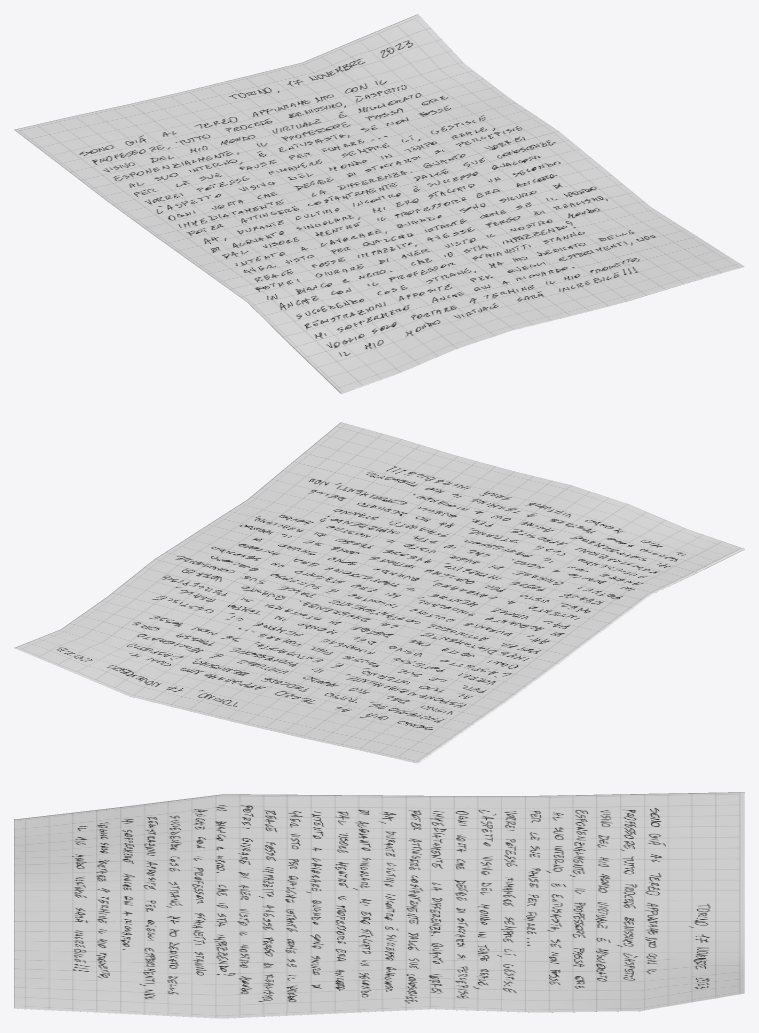
Rendered from Pagina3.fbx.
The picture shows the model from 3 angles, top to bottom: view 1: azimuth 30°, elevation 25°; view 2: azimuth 150°, elevation 25°; view 3: azimuth 270°, elevation 25°; orthographic projection. The views are drawn at different scales.
Parts seen in each view (by area): view 1: Pagina3; view 2: Pagina3; view 3: Pagina3.
Boxes of the visible parts, bbox=[...] form: Pagina3: bbox=[14, 14, 744, 393]; Pagina3: bbox=[14, 422, 744, 763]; Pagina3: bbox=[14, 792, 744, 1018].
Bounding box in the file's own units: 48.44 × 4.79 × 67.88.
